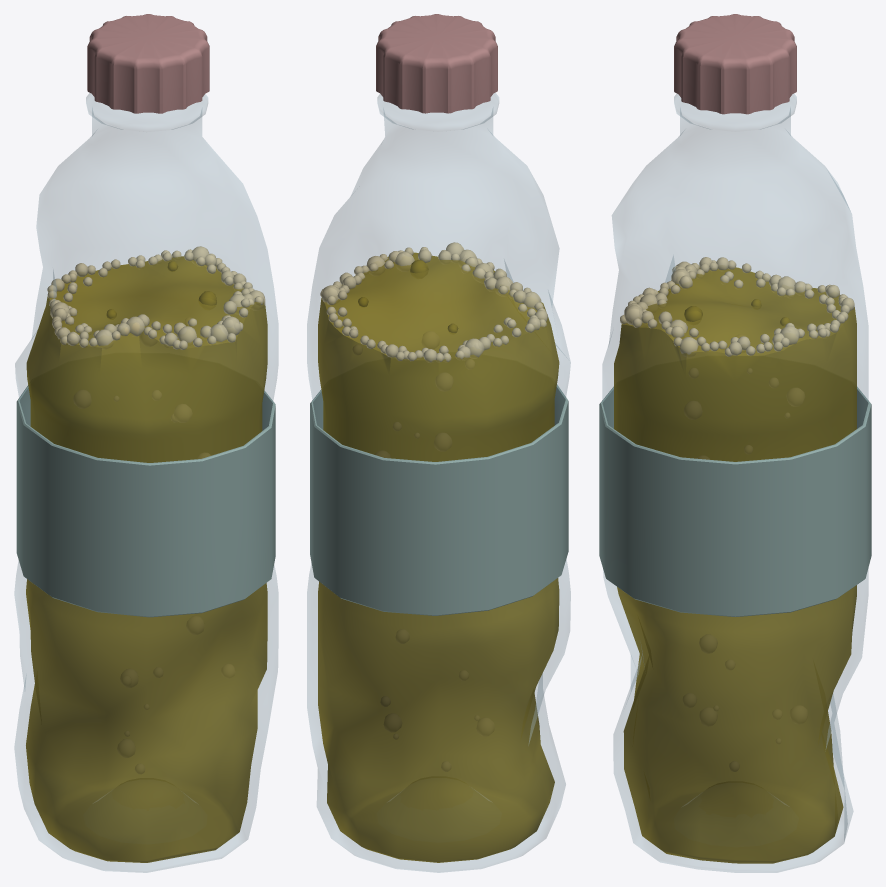
File: Pee_Bottle.fbx
The picture shows the model from 3 angles, left to right: view 1: azimuth 30°, elevation 25°; view 2: azimuth 150°, elevation 25°; view 3: azimuth 270°, elevation 25°; orthographic projection.
Visible parts, largest first — view 1: pSphere132; view 2: pSphere132; view 3: pSphere132.
Part boxes in pixels (x1,y1,x2,y2): pSphere132: (14,14,278,872); pSphere132: (307,14,570,872); pSphere132: (599,14,871,872).
Size of the model in its own units: 1.98 by 6.58 by 2.03.
